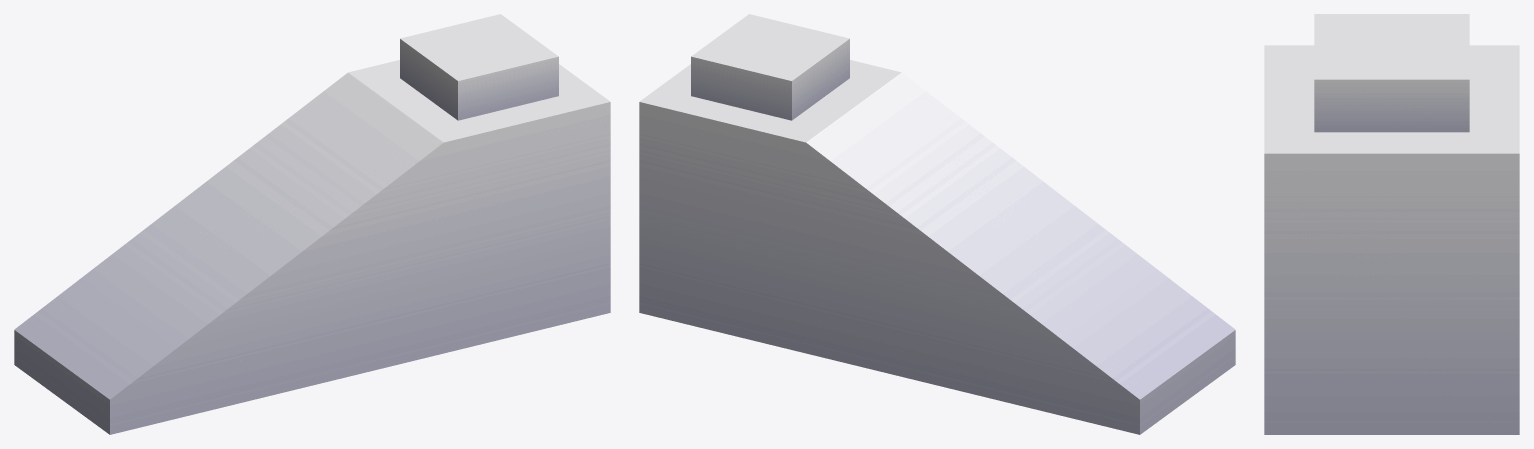
File: square-lq-brick-slope-3x1.glb
3 views of the same model, side by side, from view 1: azimuth 30°, elevation 25°; view 2: azimuth 150°, elevation 25°; view 3: azimuth 270°, elevation 25° (orthographic). The views are drawn at different scales.
Visible parts, largest first — view 1: square-lq-brick-slope-3x1; view 2: square-lq-brick-slope-3x1; view 3: square-lq-brick-slope-3x1.
Part boxes in pixels (left/top/right/bottom): square-lq-brick-slope-3x1: left=14, top=14, right=610, bottom=434; square-lq-brick-slope-3x1: left=639, top=14, right=1235, bottom=434; square-lq-brick-slope-3x1: left=1264, top=14, right=1519, bottom=434.
Size of the model in its own units: 1.19 by 0.57 by 0.395.
Materials: 1 (1 with a texture image).
